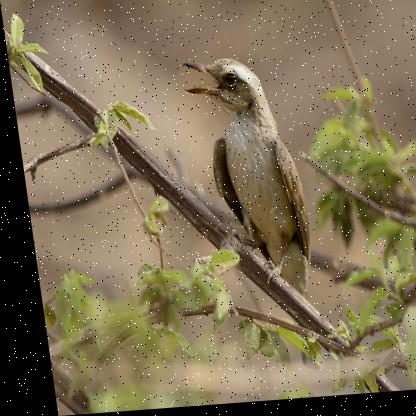Burung: (177, 56, 316, 378)
